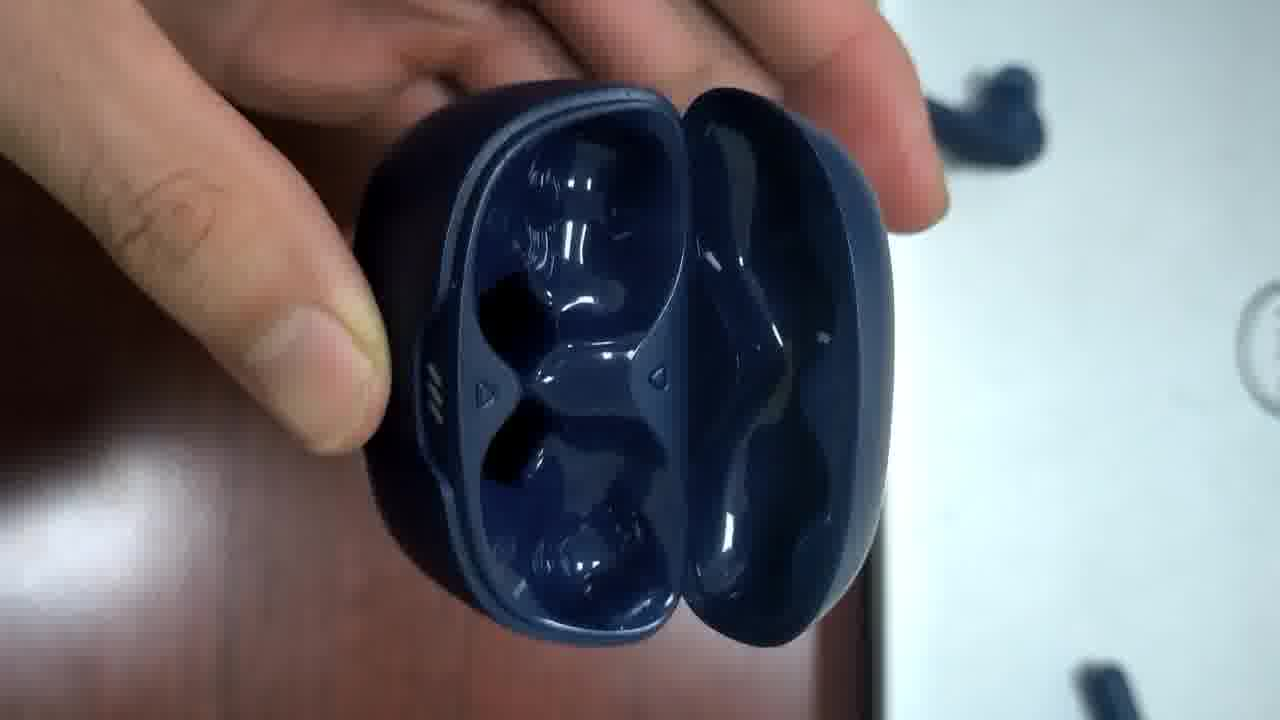Case: (353, 94, 897, 643)
Earbud: (928, 66, 1045, 166)
Empty_Slot: (474, 376, 675, 602), (475, 124, 676, 349)
